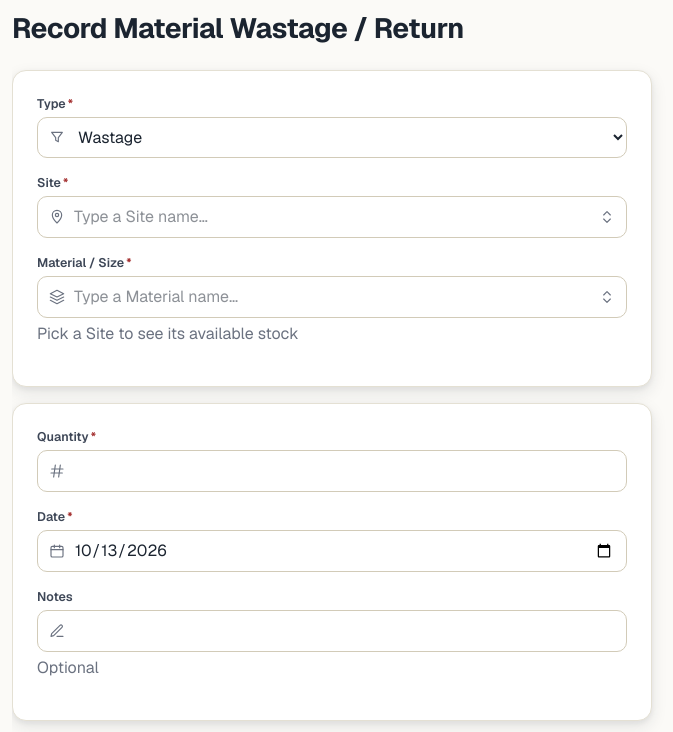
Test: NewReturnWastagePage › flattens each Material's Sizes into Material/Size picker options
Type "aggregate" into the dropdown labelled "Material / Size" at (332, 297), box [37, 276, 627, 318]
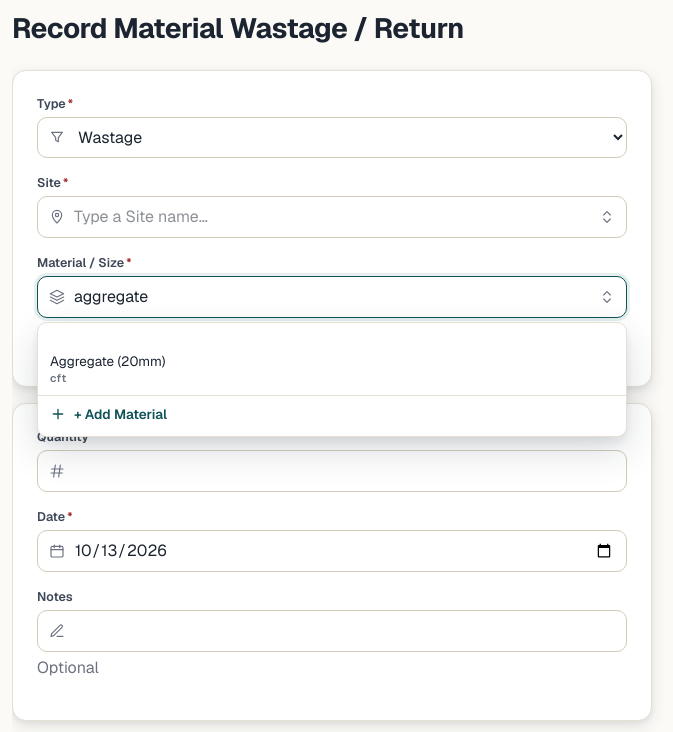
Check: the text "Aggregate (20mm)" is shown, box [50, 351, 166, 371]
